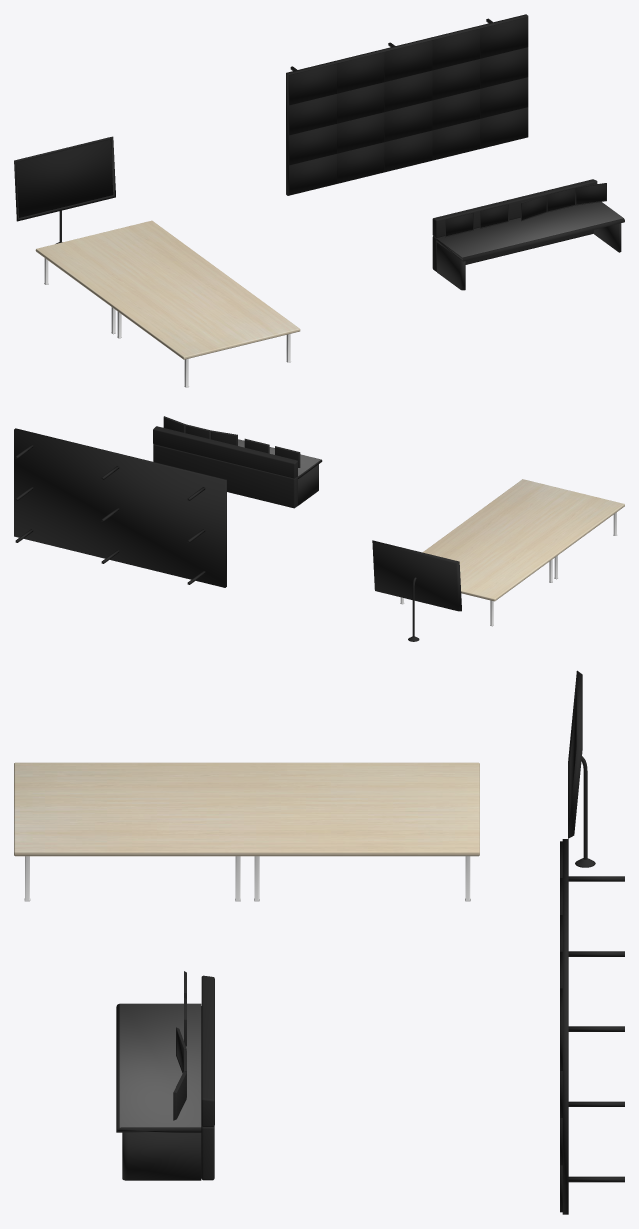
File: asset.gltf
3 views of the same model, one above another, from view 1: azimuth 30°, elevation 25°; view 2: azimuth 150°, elevation 25°; view 3: azimuth 270°, elevation 25° (orthographic). The views are drawn at different scales.
Parts seen in each view (by area): view 1: ChamferBox019, Rectangle039, Line002, Rectangle006, Rectangle008, Rectangle009, Rectangle010, Rectangle015, Rectangle020, Rectangle025, Rectangle013, Rectangle014 (+18 smaller); view 2: Rectangle026, ChamferBox019, Rectangle037, ChamferBox001, ChamferBox002, Rectangle036, Line005, Line002; view 3: ChamferBox019, Line002, Line004, Rectangle026, ChamferBox002, Rectangle036, Rectangle037, ChamferBox001.
Part boxes in pixels (bbox=[...]): ChamferBox019: bbox=[35, 220, 300, 359]; Rectangle039: bbox=[16, 139, 113, 217]; Line002: bbox=[436, 202, 624, 261]; Rectangle006: bbox=[288, 63, 336, 105]; Rectangle008: bbox=[384, 40, 432, 81]; Rectangle009: bbox=[432, 28, 480, 70]; Rectangle010: bbox=[480, 17, 528, 58]; Rectangle015: bbox=[480, 47, 528, 88]; Rectangle020: bbox=[480, 77, 528, 118]; Rectangle025: bbox=[480, 107, 528, 148]; Rectangle013: bbox=[384, 70, 432, 111]; Rectangle014: bbox=[432, 59, 480, 100]; Rectangle026: bbox=[14, 428, 226, 587]; ChamferBox019: bbox=[422, 479, 624, 601]; Rectangle037: bbox=[372, 540, 461, 611]; ChamferBox001: bbox=[153, 444, 297, 508]; ChamferBox002: bbox=[153, 426, 297, 478]; Rectangle036: bbox=[15, 445, 205, 584]; Line005: bbox=[298, 464, 318, 505]; Line002: bbox=[238, 439, 322, 478]; ChamferBox019: bbox=[14, 762, 479, 856]; Line002: bbox=[116, 1003, 201, 1132]; Line004: bbox=[122, 1132, 201, 1180]; Rectangle026: bbox=[562, 839, 568, 1214]; ChamferBox002: bbox=[201, 975, 214, 1126]; Rectangle036: bbox=[568, 876, 624, 1182]; Rectangle037: bbox=[568, 670, 582, 838]; ChamferBox001: bbox=[201, 1006, 214, 1180].
Bounding box in the file's own units: 90.52 × 20.45 × 58.73.
6 materials, 1 textured.
